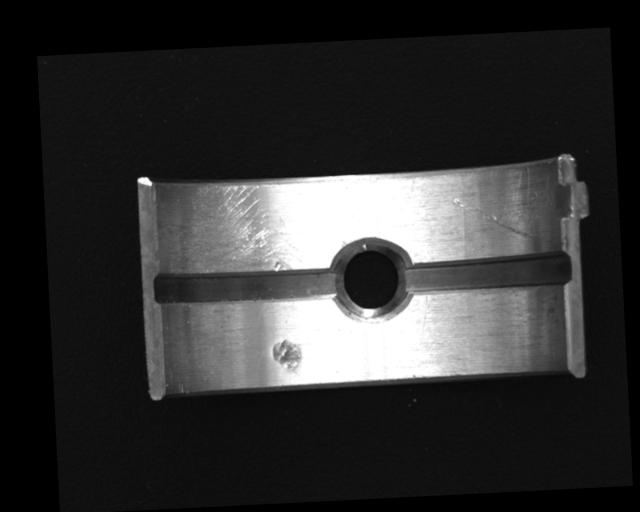bruise: (271, 336, 302, 374)
gap: (153, 261, 343, 308), (402, 252, 571, 295)
hole: (332, 238, 412, 323)
nick: (452, 191, 535, 246)
scratch: (161, 175, 337, 275)
